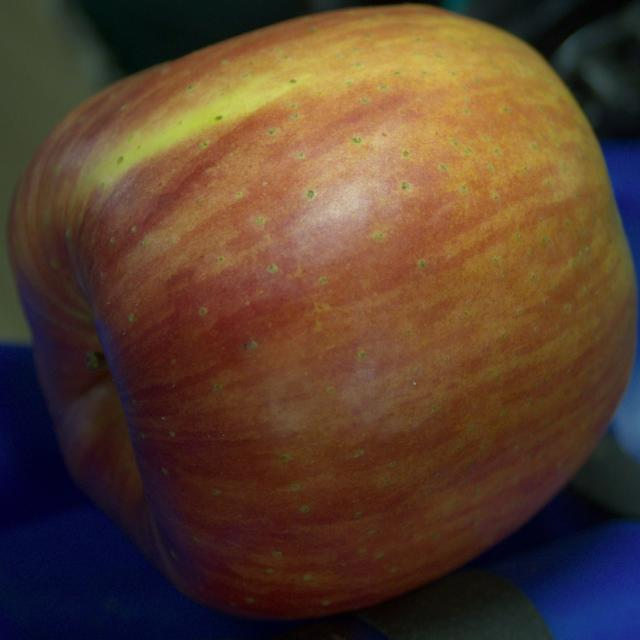apple: (8, 4, 637, 618)
